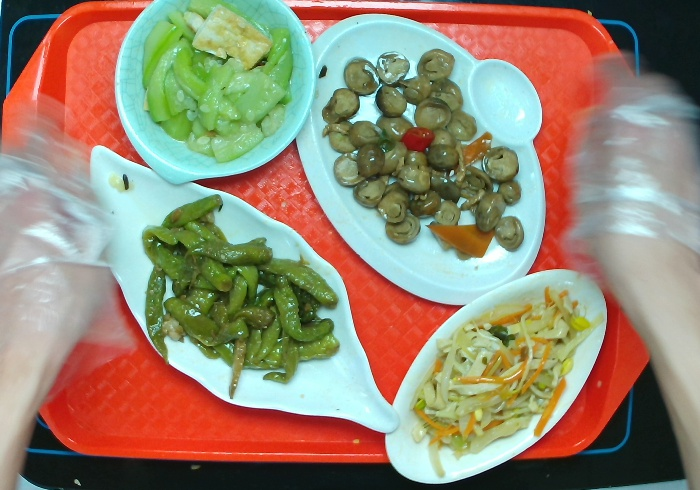RJxy-Bai_Se_Tuo_Yuan: (379, 265, 610, 490)
RJxy-Shu_Ye_Pan: (85, 141, 399, 435)
RJxy-Xiao_Jiao_Yuan_Wan: (108, 1, 319, 191)
RJxy-Zhan_Liao_Pan: (293, 11, 550, 307)
